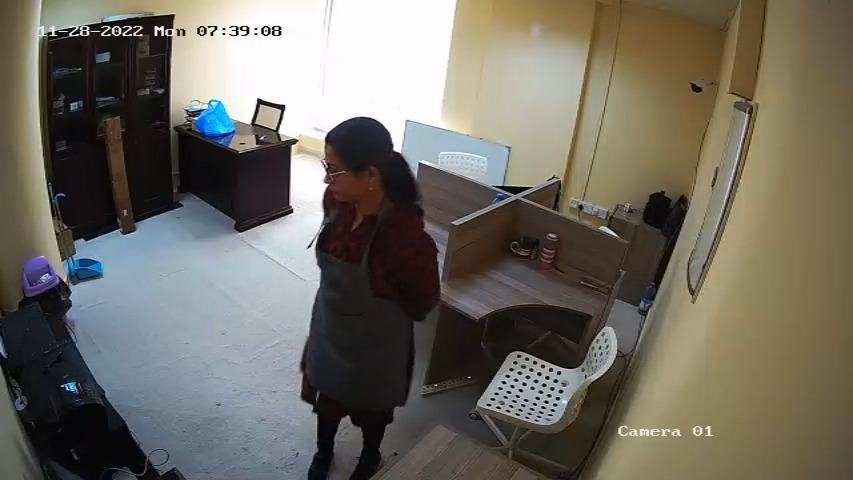apron: (299, 210, 413, 398)
